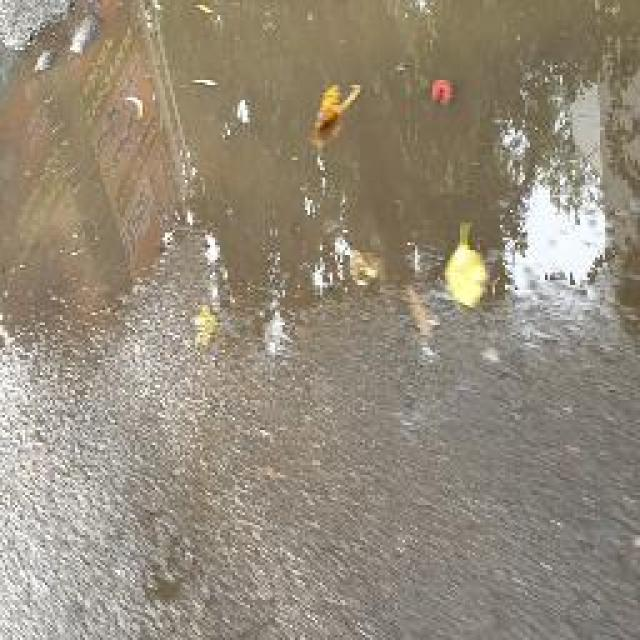waterlogging: (16, 0, 640, 355)
